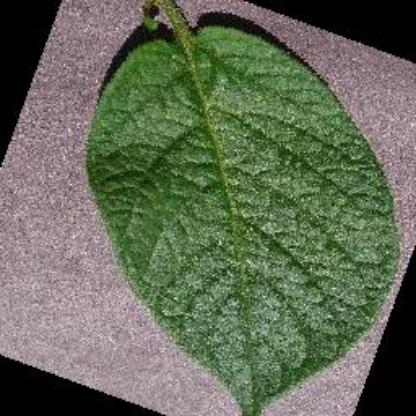Healthy-plant: (86, 0, 400, 416)
